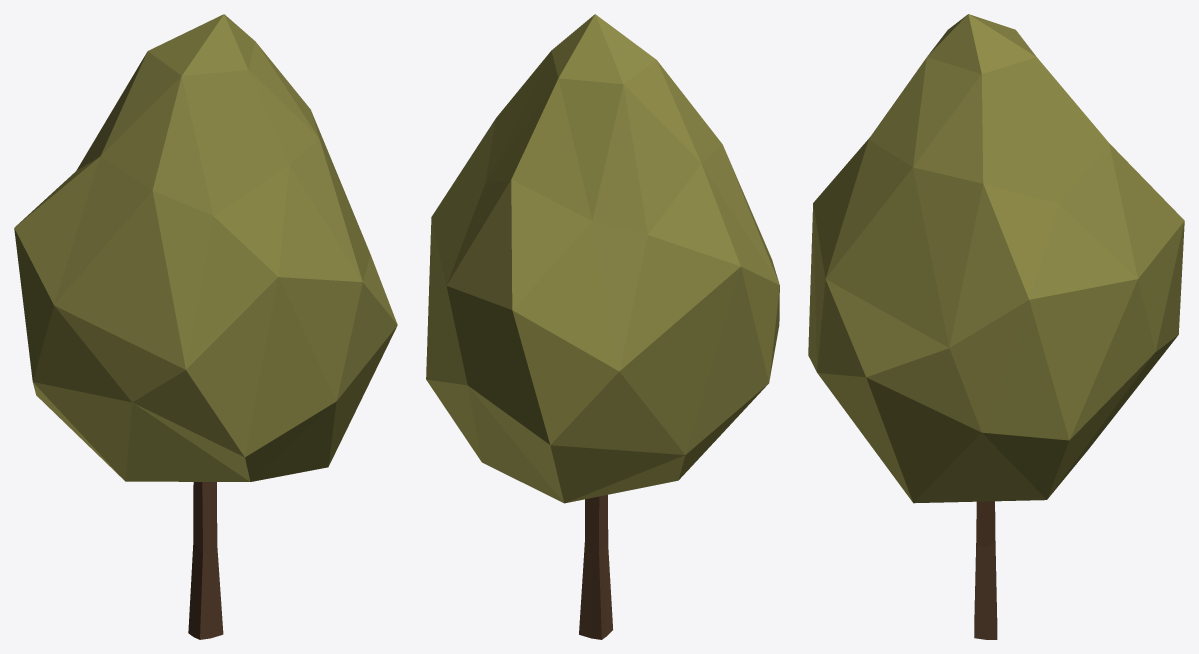
File: Tree_5_Yellow.fbx
3 renders of one model, left to right at view 1: azimuth 30°, elevation 25°; view 2: azimuth 150°, elevation 25°; view 3: azimuth 270°, elevation 25°, orthographic. The views are drawn at different scales.
Visible parts, largest first — view 1: Tree_5_Yellow_Part_1, Tree_5_Yellow_Part_2; view 2: Tree_5_Yellow_Part_1, Tree_5_Yellow_Part_2; view 3: Tree_5_Yellow_Part_1, Tree_5_Yellow_Part_2.
Boxes of the visible parts, x1,y1,x2,y2 form: Tree_5_Yellow_Part_1: (14,14,397,481); Tree_5_Yellow_Part_2: (188,482,223,639); Tree_5_Yellow_Part_1: (426,14,779,503); Tree_5_Yellow_Part_2: (579,495,613,639); Tree_5_Yellow_Part_1: (808,14,1184,503); Tree_5_Yellow_Part_2: (974,501,997,639).
Size of the model in its own units: 437 by 795 by 434.
